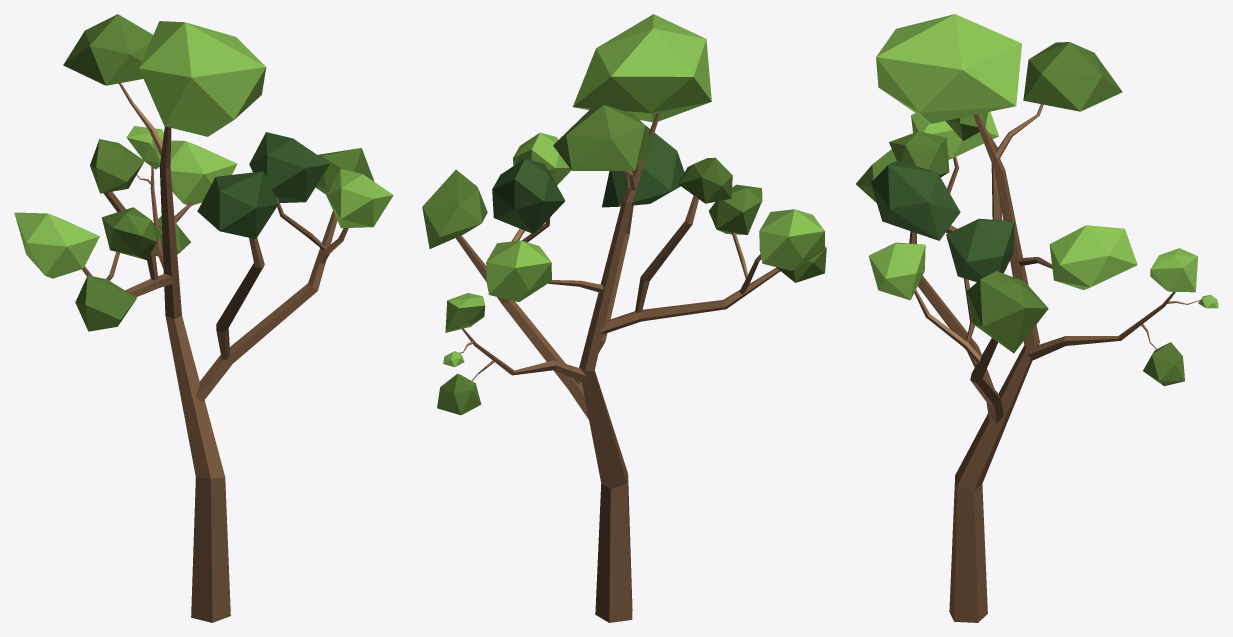
Rendered from TreeSycamore_03.glb.
3 renders of one model, left to right at view 1: azimuth 30°, elevation 25°; view 2: azimuth 150°, elevation 25°; view 3: azimuth 270°, elevation 25°, orthographic. The views are drawn at different scales.
Parts seen in each view (by area): view 1: TreeSycamore_03; view 2: TreeSycamore_03; view 3: TreeSycamore_03.
Part boxes in pixels (x1=…): TreeSycamore_03: x1=14, y1=14, x2=393, y2=622; TreeSycamore_03: x1=422, y1=14, x2=826, y2=622; TreeSycamore_03: x1=856, y1=14, x2=1218, y2=622.
Size of what is drawn, in the model's own units: 3.7 by 5.75 by 3.22.
1 material, 1 textured.
